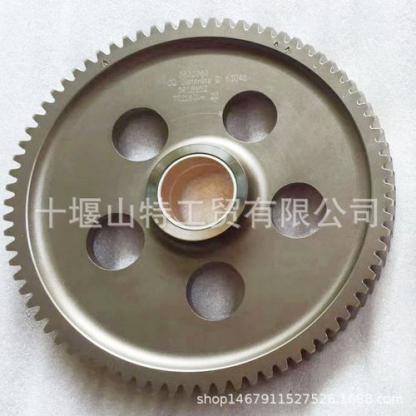FOD: (2, 10, 402, 406)
